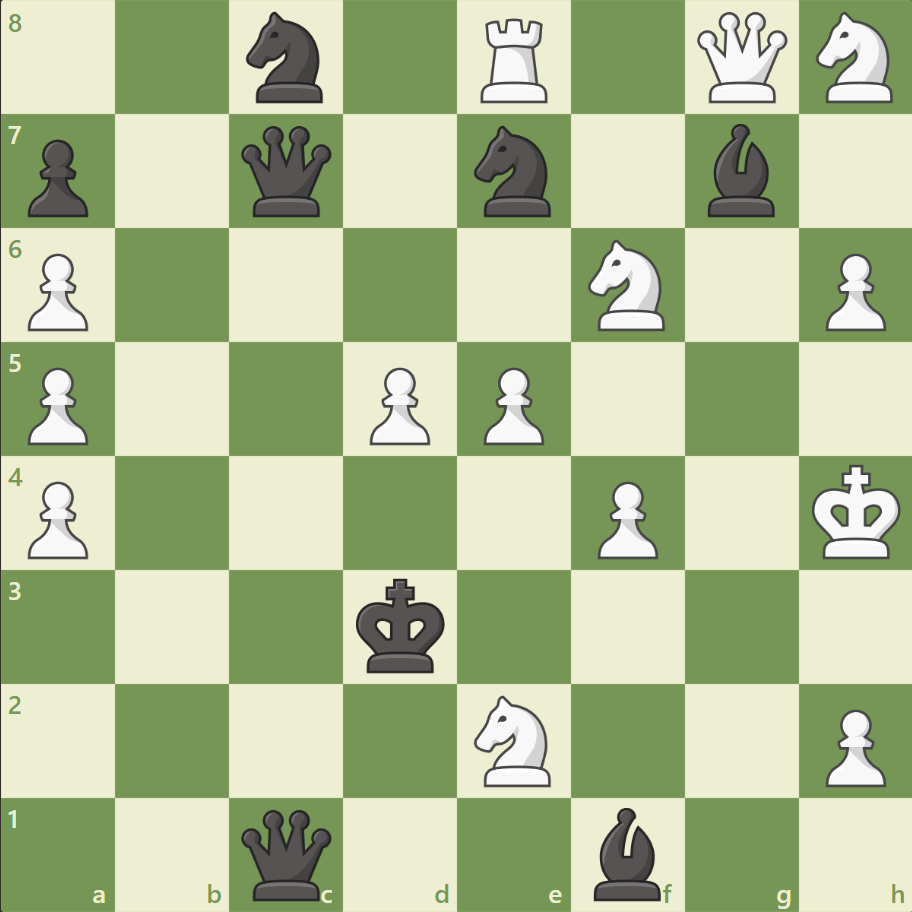K: (806, 458, 906, 566)
N: (806, 7, 903, 110), (579, 234, 676, 337), (465, 688, 562, 791)
P: (20, 246, 95, 337), (20, 359, 95, 450), (474, 359, 549, 450), (20, 473, 95, 564), (815, 246, 889, 337), (361, 359, 435, 450), (588, 473, 662, 564), (815, 700, 889, 791)
Q: (691, 9, 790, 108)
R: (473, 12, 556, 109)
b: (585, 801, 669, 904), (698, 120, 782, 222)
k: (351, 571, 451, 679)
n: (238, 7, 335, 110), (465, 121, 562, 223)
p: (20, 132, 95, 223)
q: (237, 122, 336, 222), (237, 804, 336, 903)
